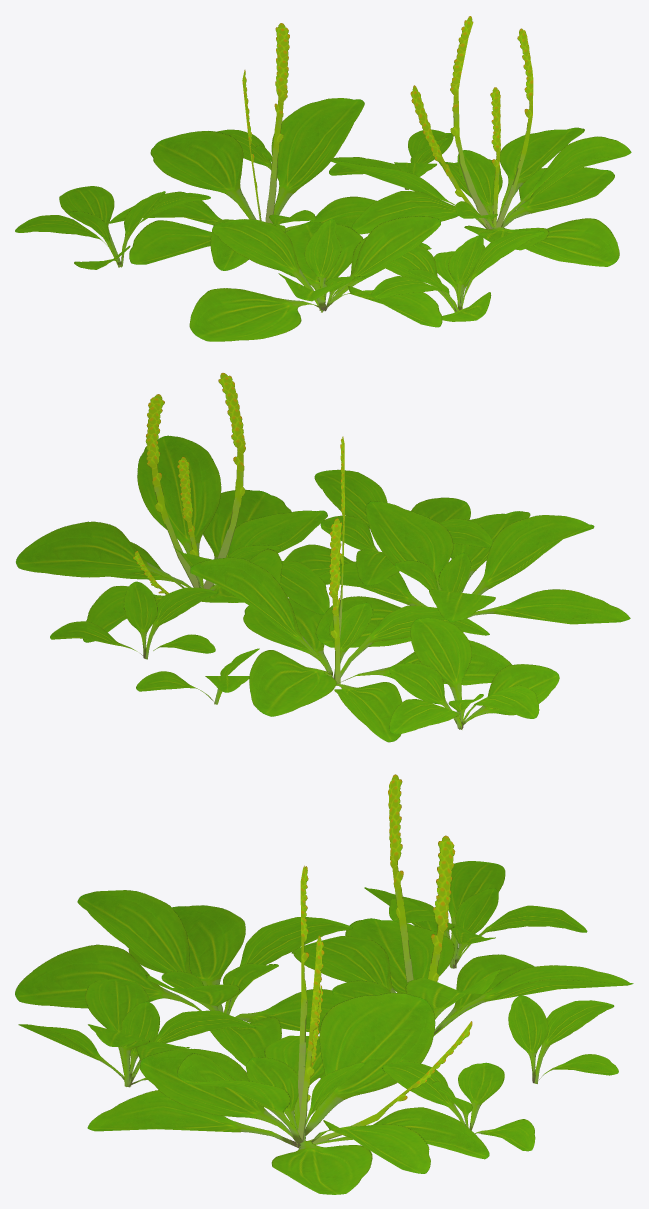
The model's file is grasses3.fbx.
The picture shows the model from 3 angles, top to bottom: view 1: azimuth 30°, elevation 25°; view 2: azimuth 150°, elevation 25°; view 3: azimuth 270°, elevation 25°; orthographic projection. The views are drawn at different scales.
Visible parts, largest first — view 1: grass03; view 2: grass03; view 3: grass03.
Part boxes in pixels (left/top/right/bottom): grass03: left=15, top=16, right=631, bottom=341; grass03: left=16, top=373, right=630, bottom=742; grass03: left=15, top=774, right=633, bottom=1194.
Bounding box in the file's own units: 70.7 × 29.13 × 59.47.
1 material, 1 textured.
